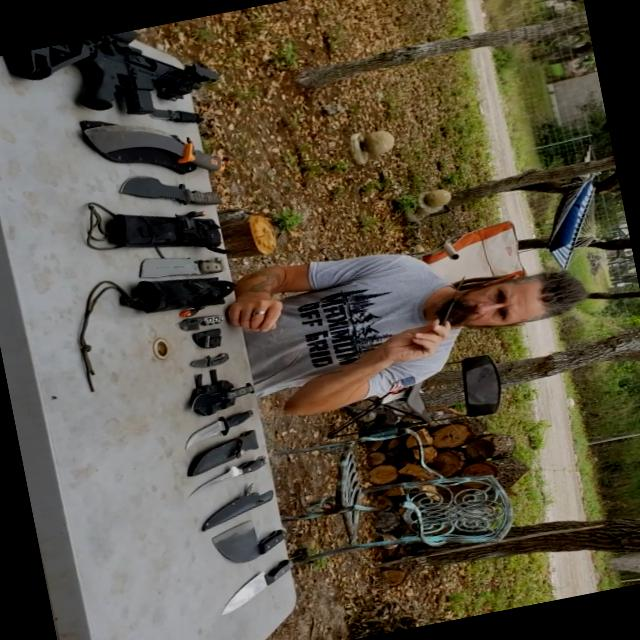knife: (73, 96, 237, 202), (199, 551, 318, 631), (106, 162, 233, 232), (194, 506, 300, 572), (180, 445, 287, 509), (128, 239, 235, 298), (170, 402, 268, 455), (182, 372, 280, 422), (144, 92, 216, 144), (420, 271, 481, 332), (168, 304, 240, 342), (180, 344, 245, 378)
long weapon: (0, 10, 257, 151)
